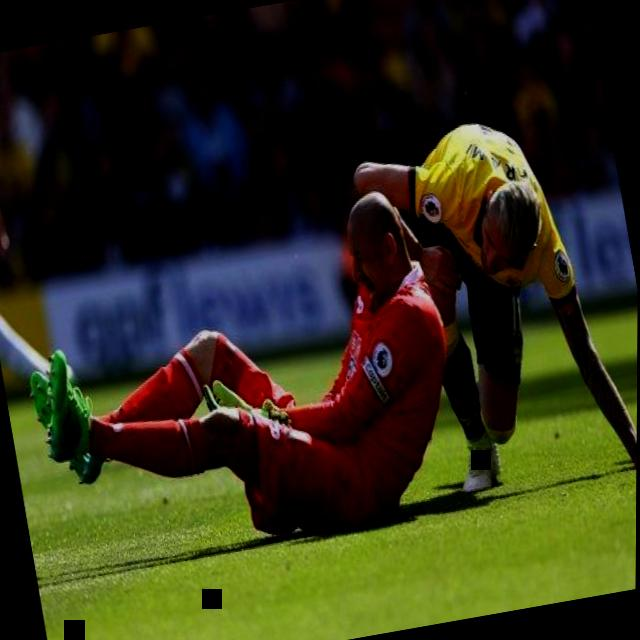Fall-Detected: (334, 84, 640, 507)
